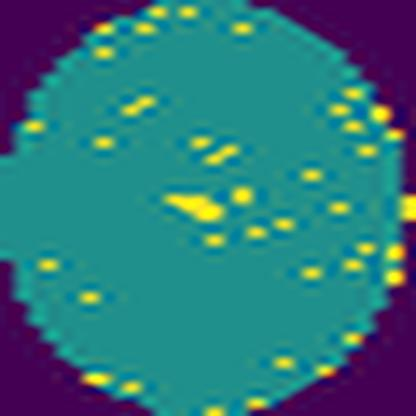Center: (164, 184, 235, 226)
